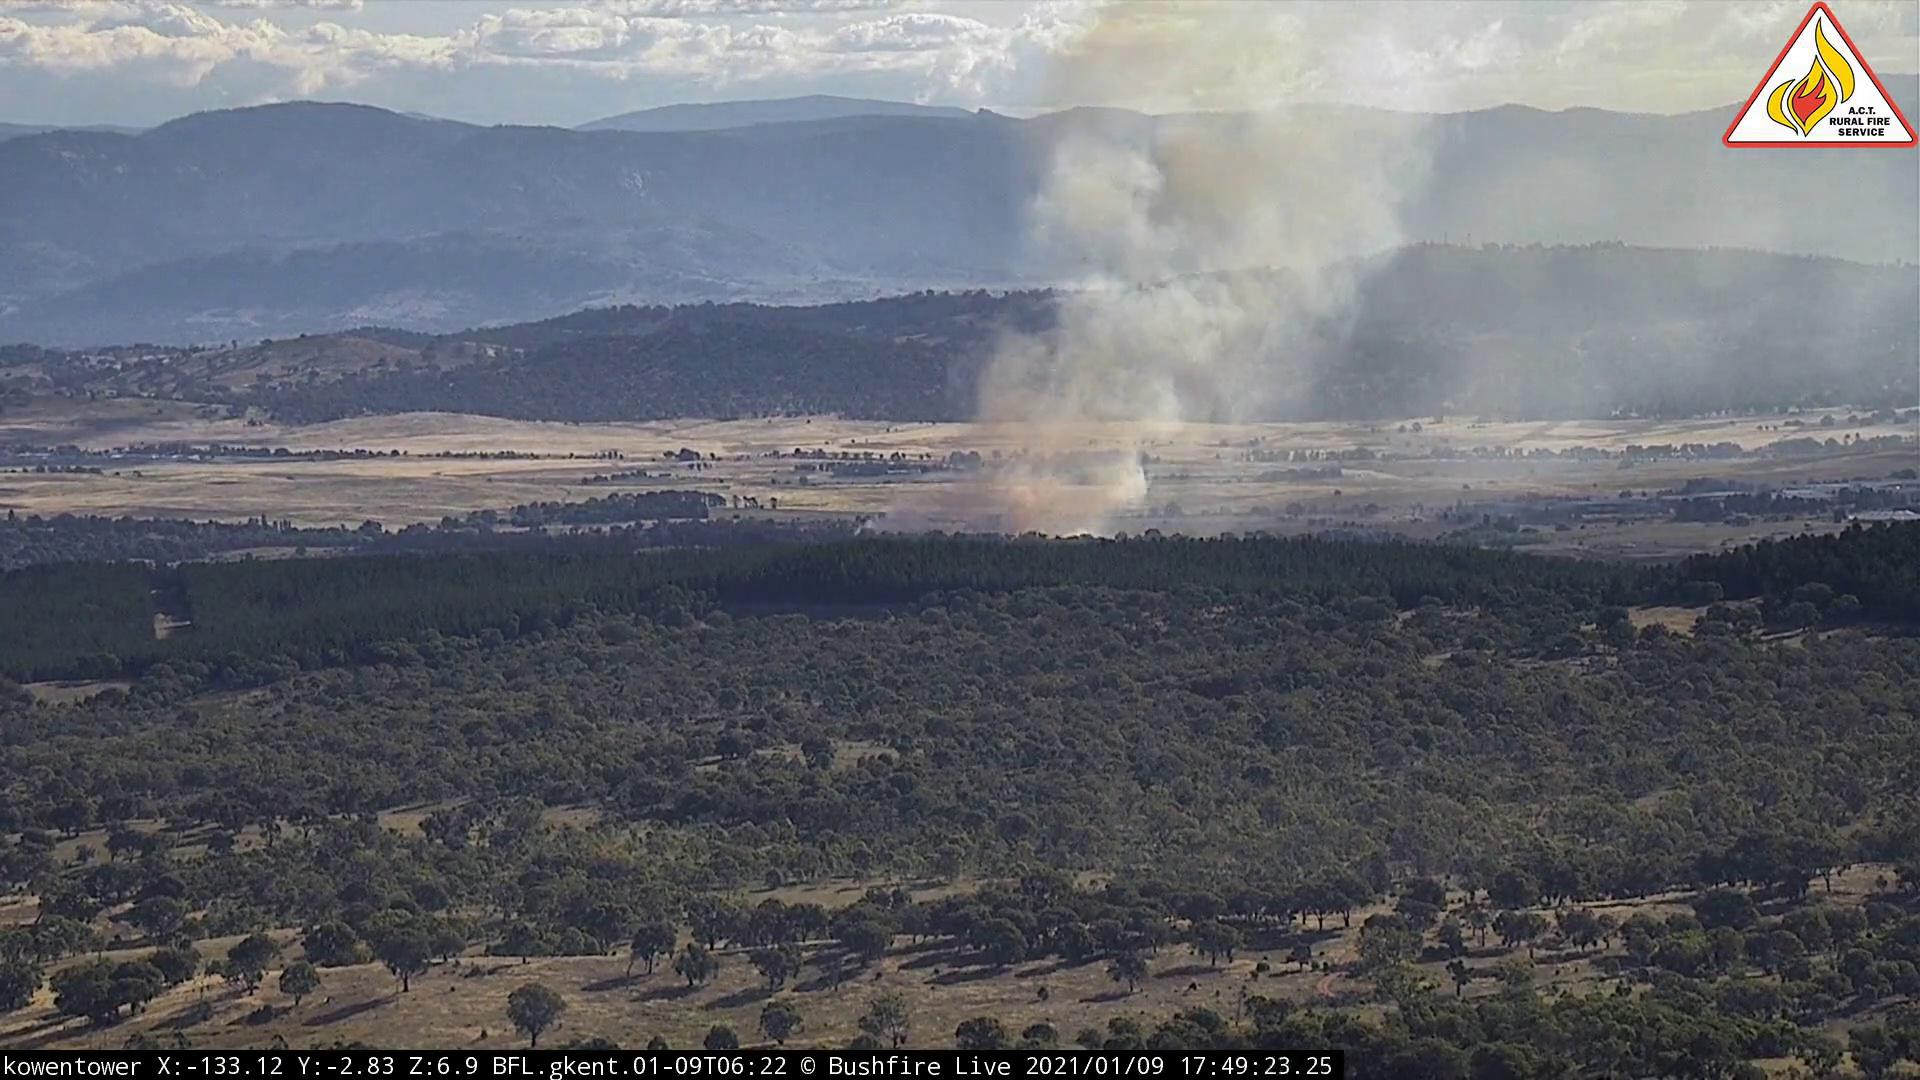Smoke: (849, 3, 1607, 550)
